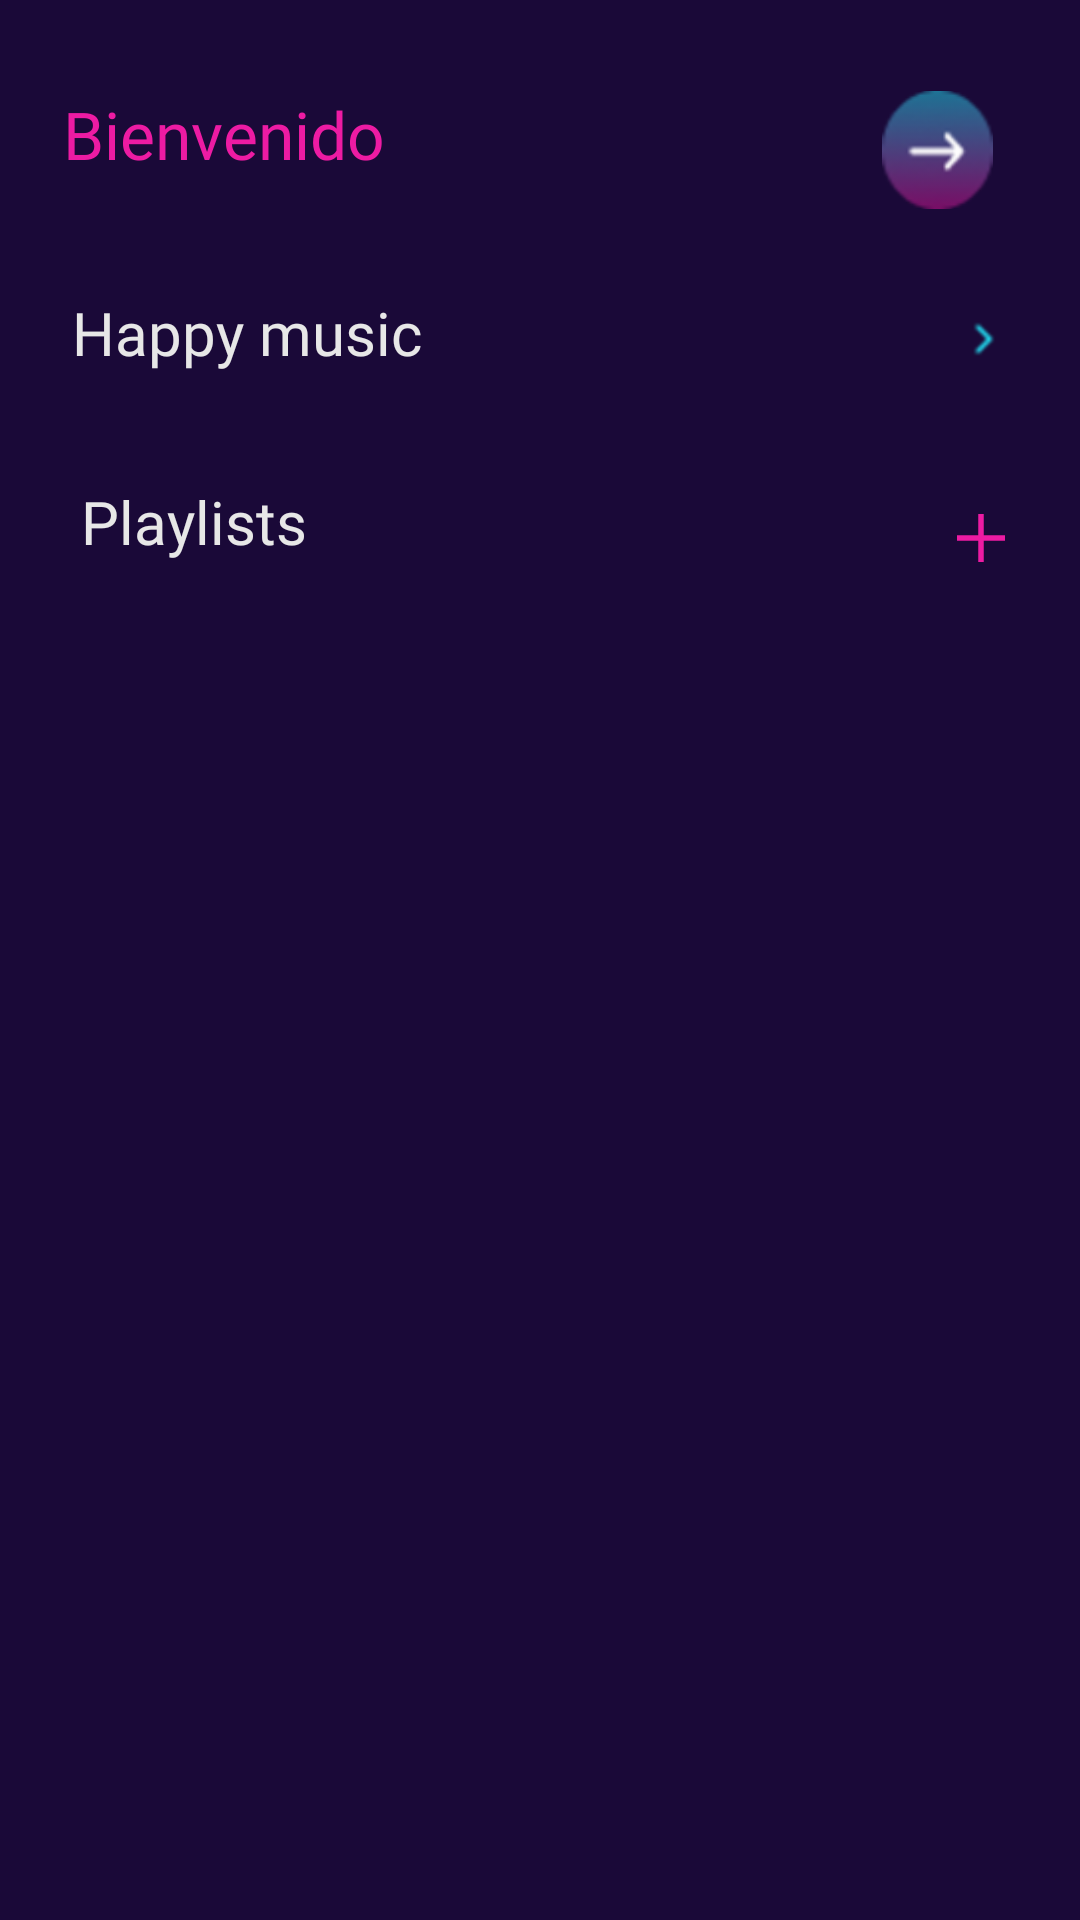

Icons on this 1080 × 1920 Android screen, each with its box as bbox(x1, y1, x2, y2):
add: bbox(957, 514, 1005, 562)
